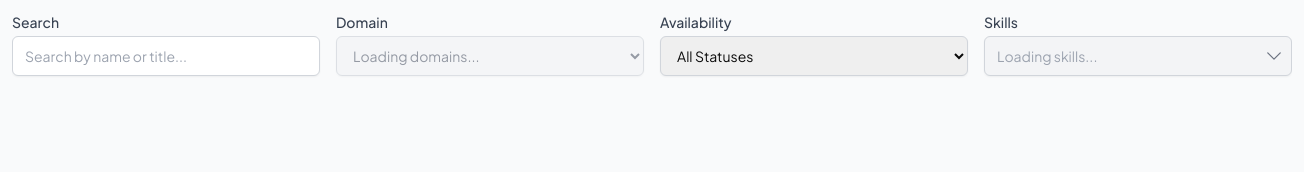
Test: ProfileSearch › should clear all filters
# Set some filters
Type "John" into the field with placeholder "Search by name or title...".
click(166, 56); type("John")  # box [12, 36, 320, 76]
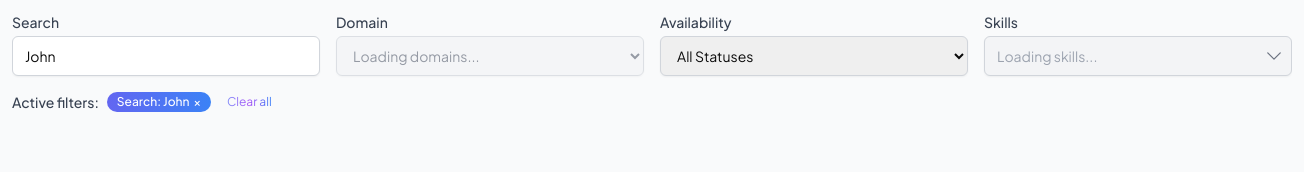
# Clear all filters
Click the button "Clear all".
click(249, 102)  # box [227, 94, 272, 110]
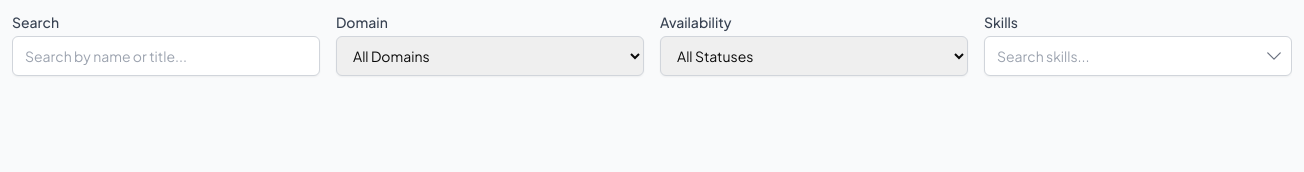
Expected: the field with placeholder "Search by name or title..." is empty, [12, 36, 320, 76]
